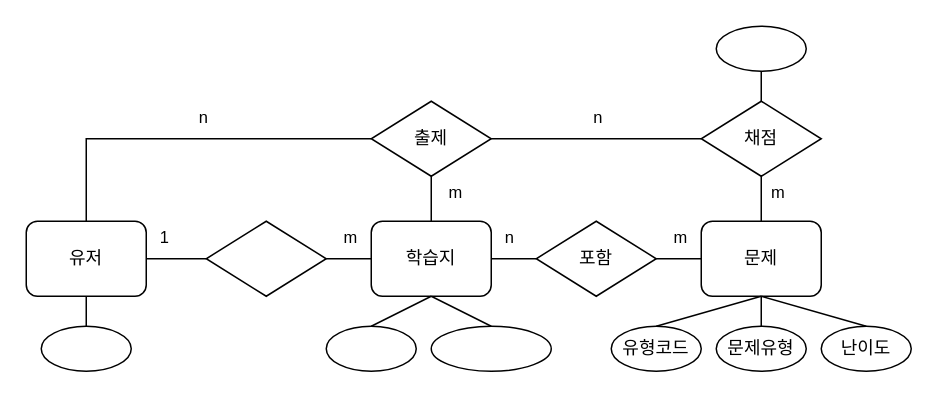
The diagram is 938 pixels wide and 398 high, and some of its shapes have lost their labels. The centre of each missing label's shape, as x and y in pixels:
"만든 유저 정보" goes at [490,348].
"생성" goes at [265,258].
"유저 유형" goes at [85,348].
"이름" goes at [370,348].
"채점 결과" goes at [760,48].
